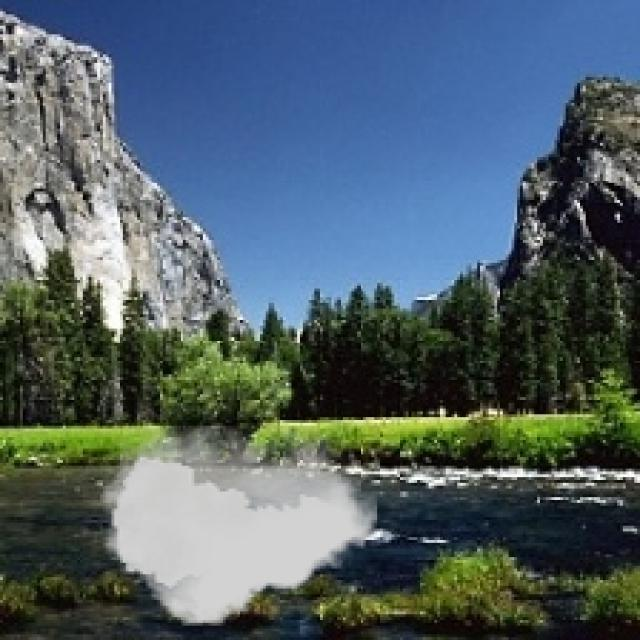Smoke: (100, 426, 377, 626)
